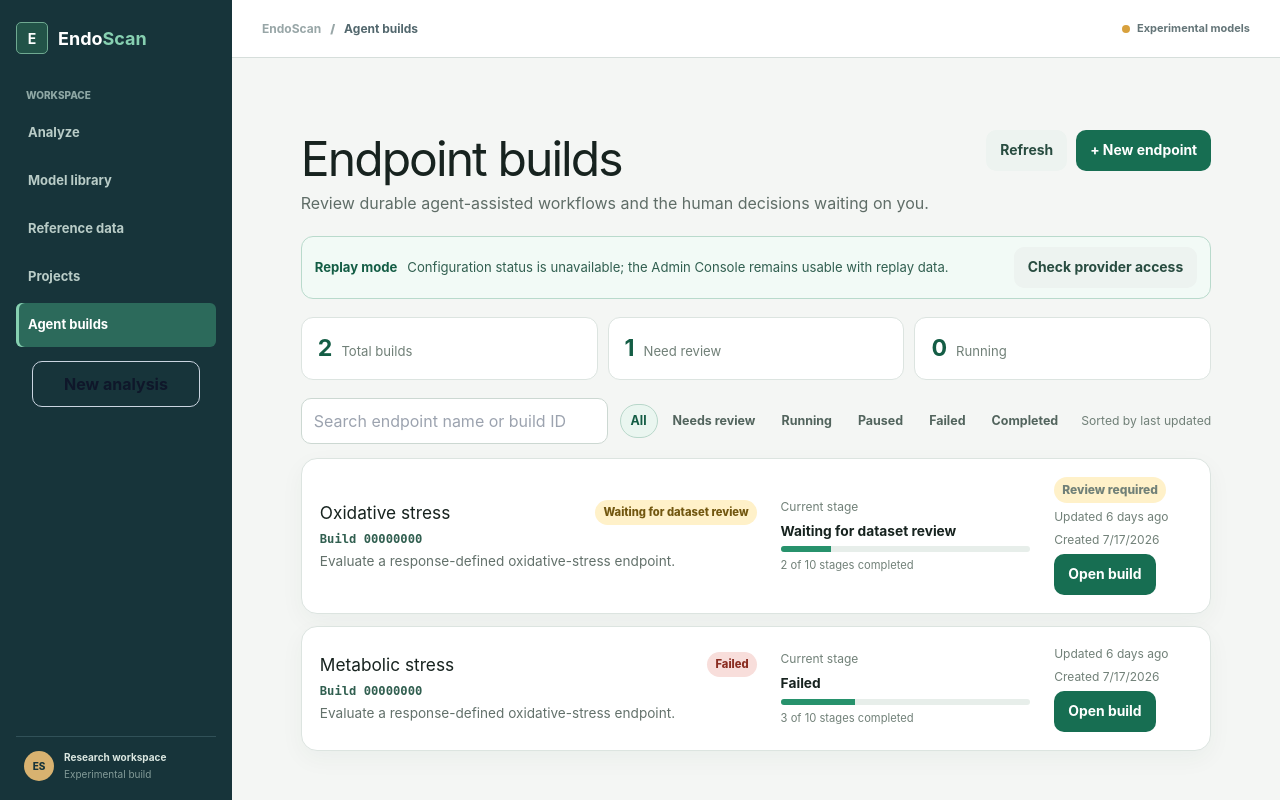
Test case: endpoint-build list and creation › searches and filters builds
Expected: the heading "Metabolic stress" is shown, top-left (320, 652), bottom-right (454, 678)
In the search field named "Search builds": (454, 421) top-left (301, 398), bottom-right (608, 444), type "Oxidative"
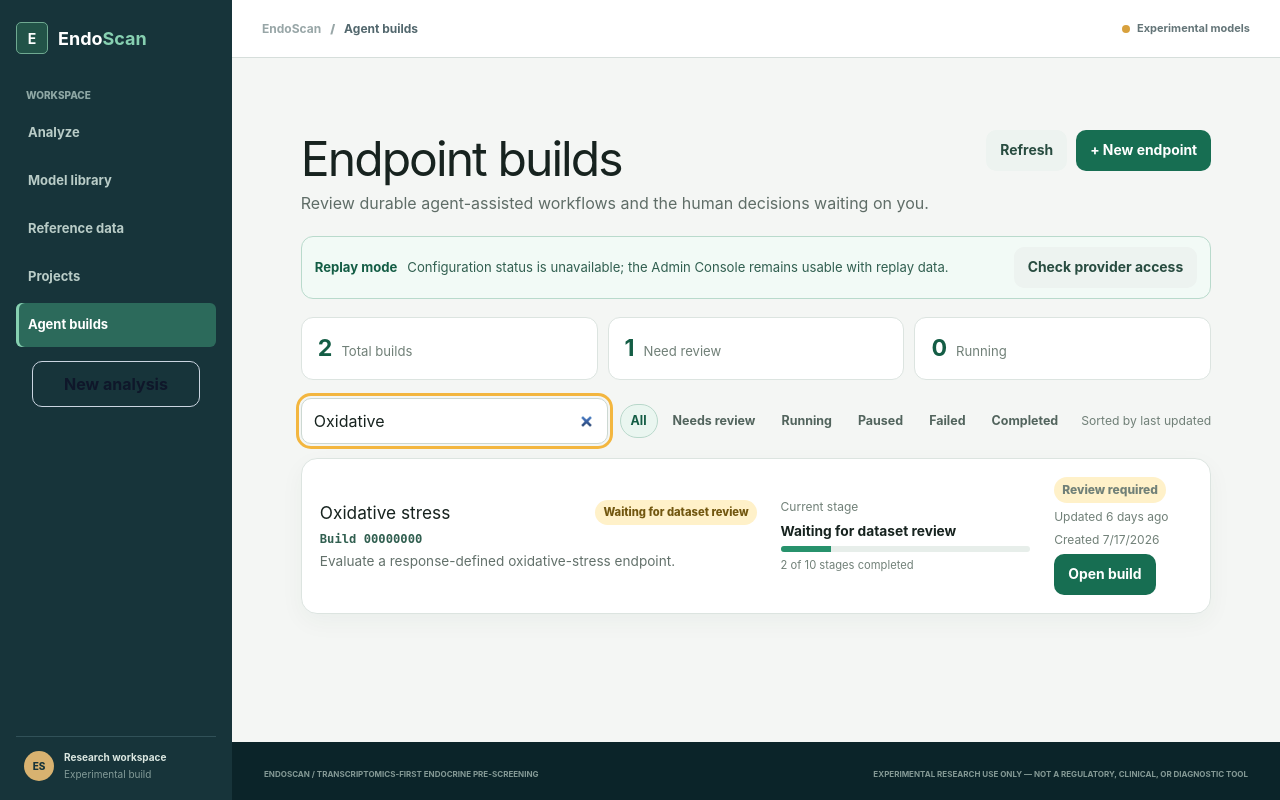
Expected: the heading "Metabolic stress" is gone
Clear the search field named "Search builds": (454, 421) top-left (301, 398), bottom-right (608, 444)
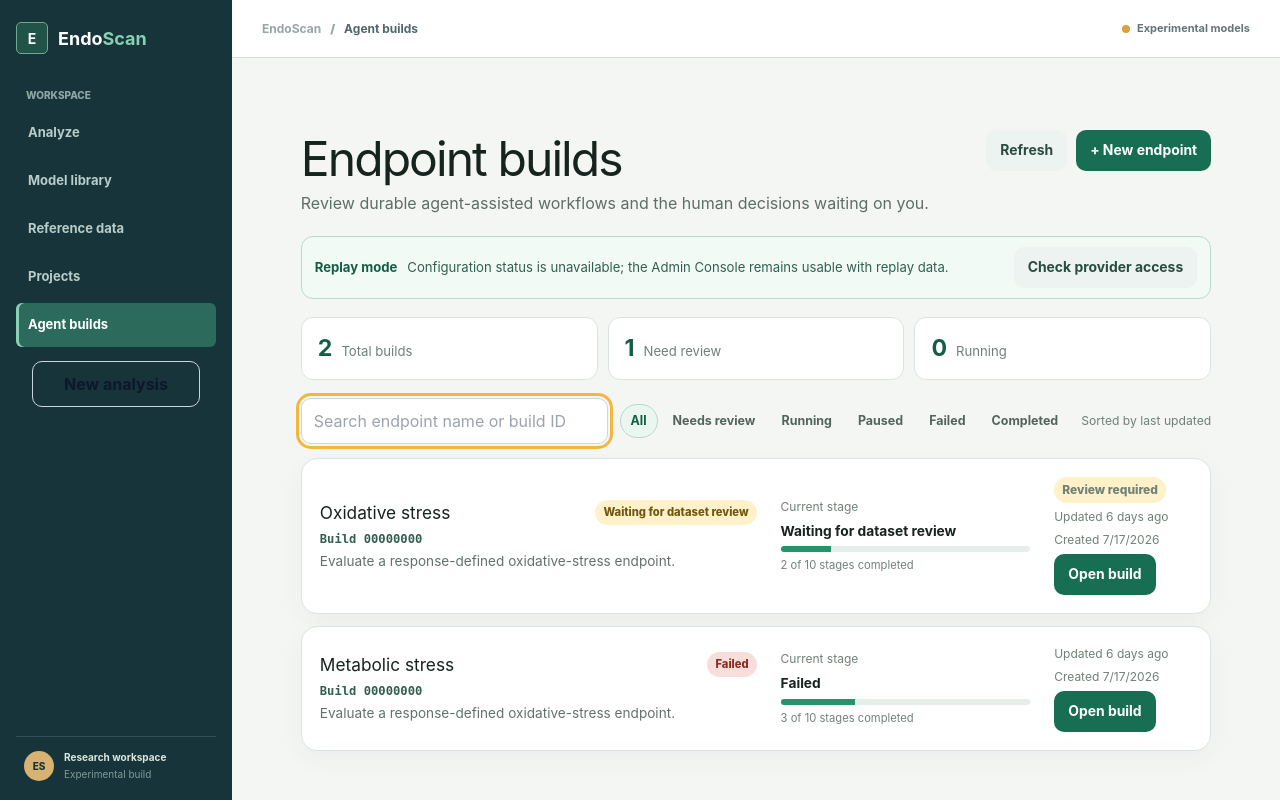
Click the button "Failed": click(947, 421) top-left (918, 404), bottom-right (976, 438)
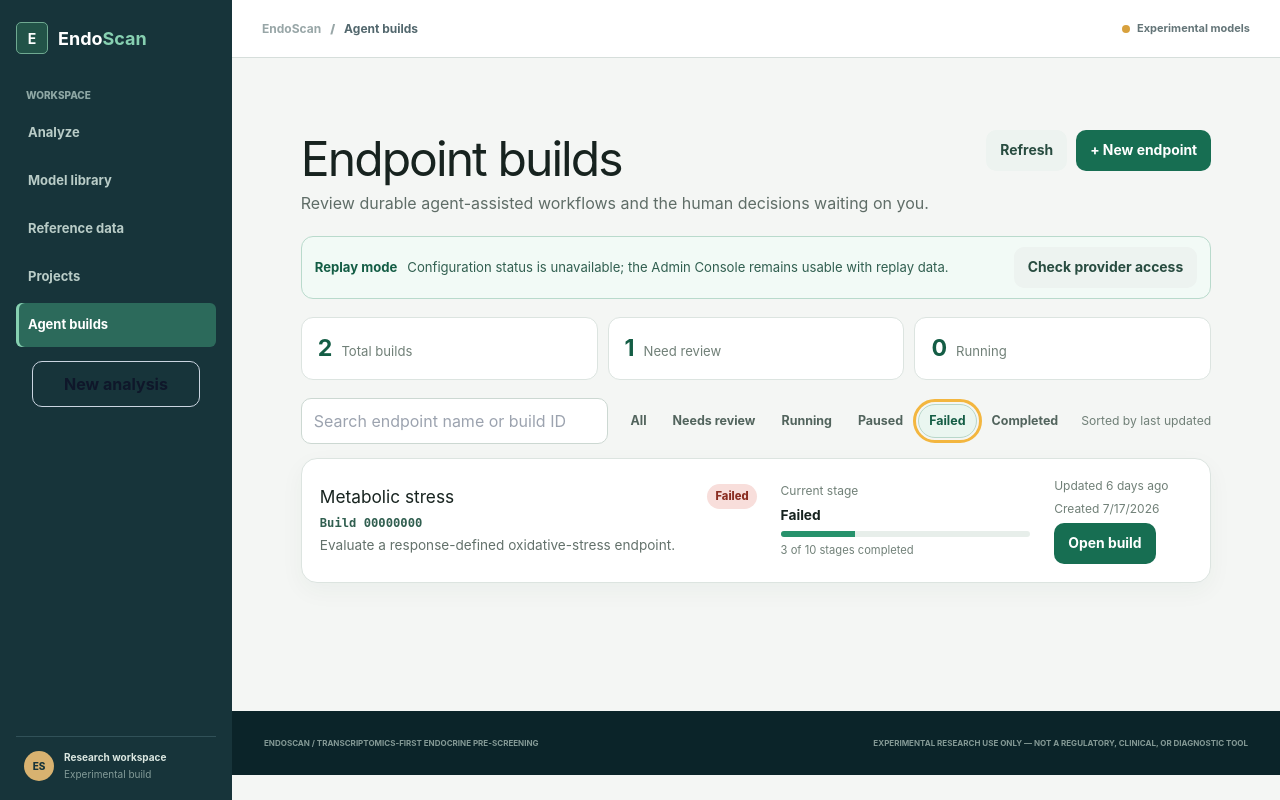
Expected: the heading "Metabolic stress" is shown, top-left (320, 484), bottom-right (454, 510)
Expected: the text "Waiting for dataset review" is gone
